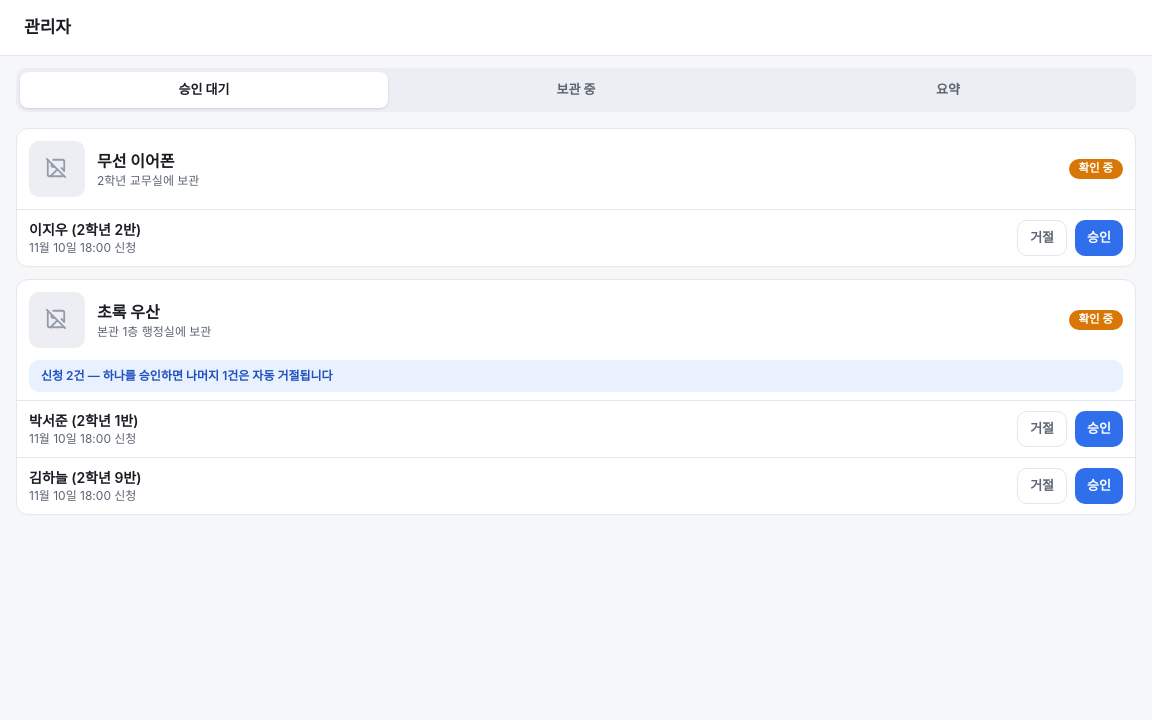
Test: AdminPage — 승인 대기 › 거절은 사유가 있어야 보낸다
Click the button with aria-label "이지우 신청 거절" at (1042, 238), box top-left (1017, 220), bottom-right (1067, 256)
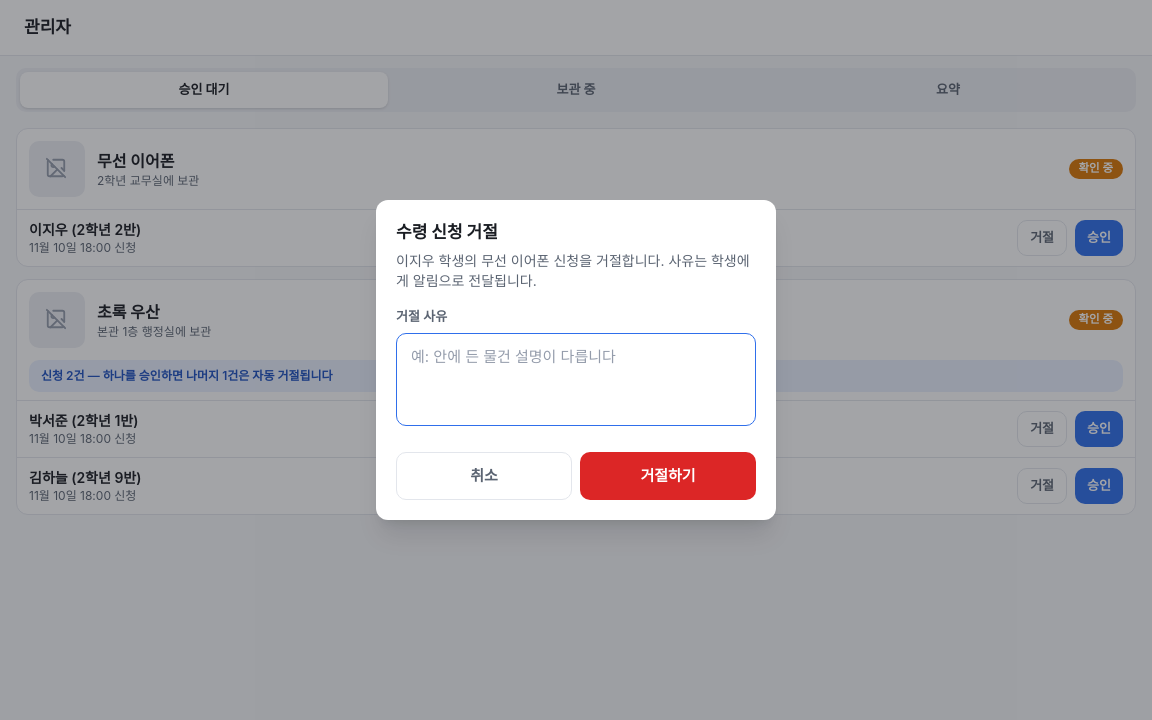
Click the button "거절하기" at (668, 476), box top-left (580, 452), bottom-right (756, 500)
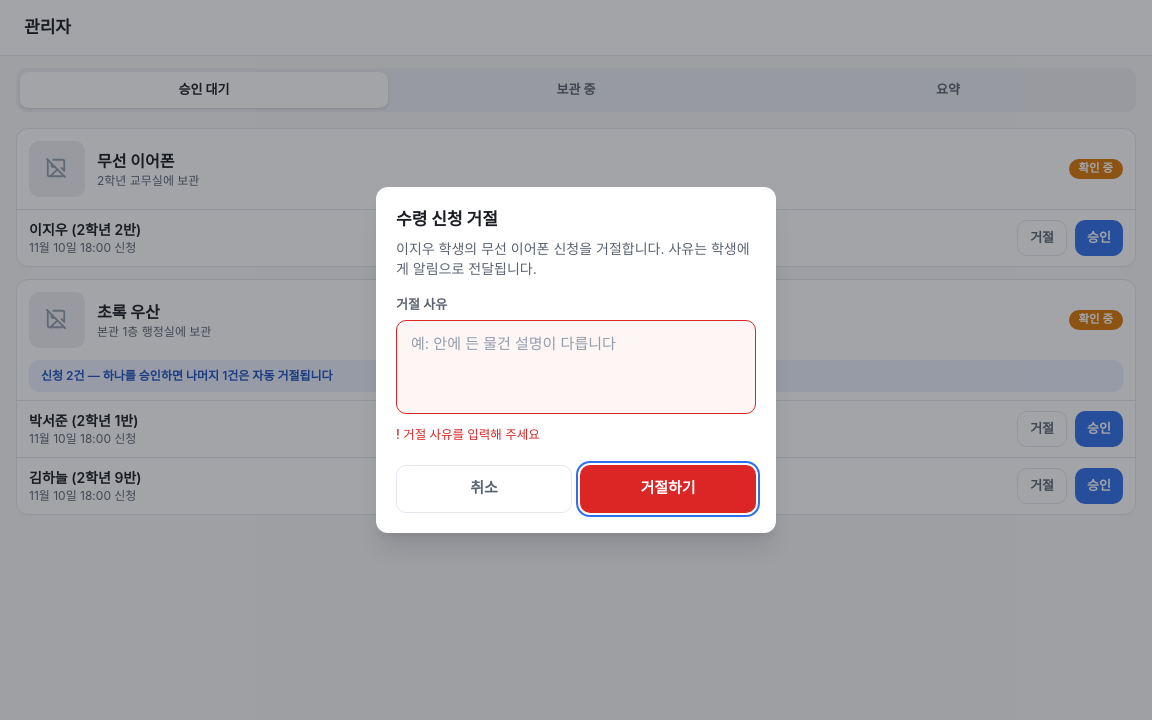
Result: the text "! 거절 사유를 입력해 주세요" is shown at top-left (396, 427), bottom-right (540, 442)
Type "케이스 색이 다릅니다" into the text box labelled "거절 사유" at (576, 367), box top-left (396, 320), bottom-right (756, 414)
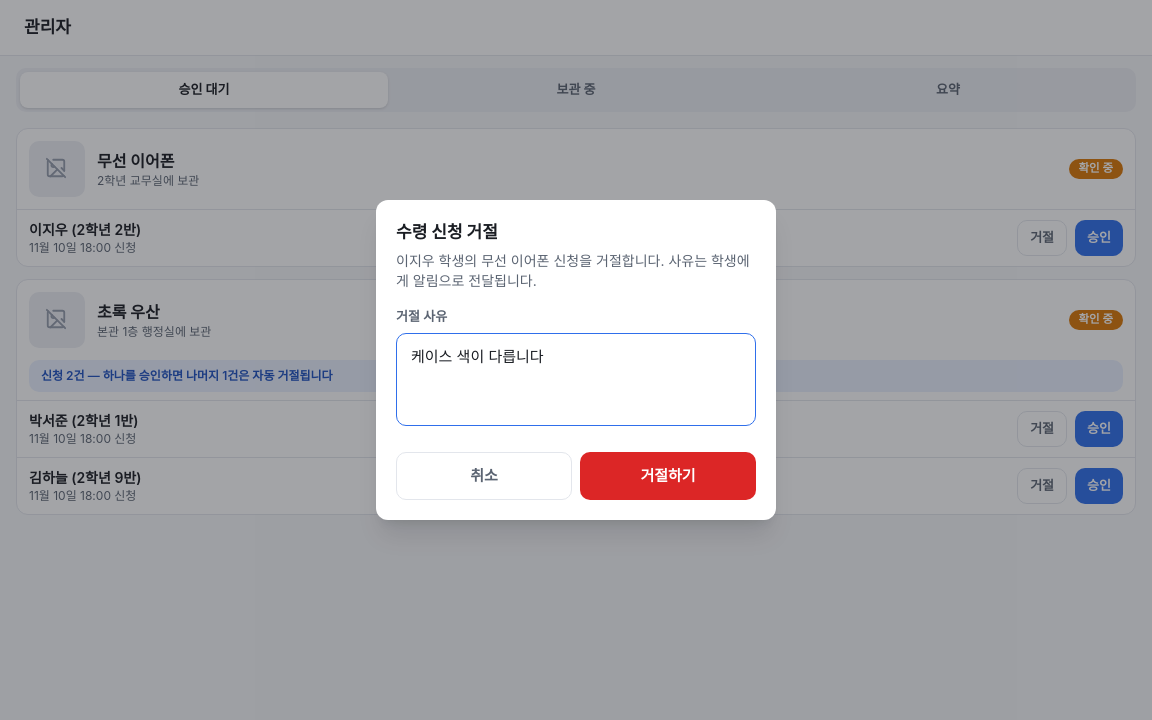
Click the button "거절하기" at (668, 476), box top-left (580, 452), bottom-right (756, 500)
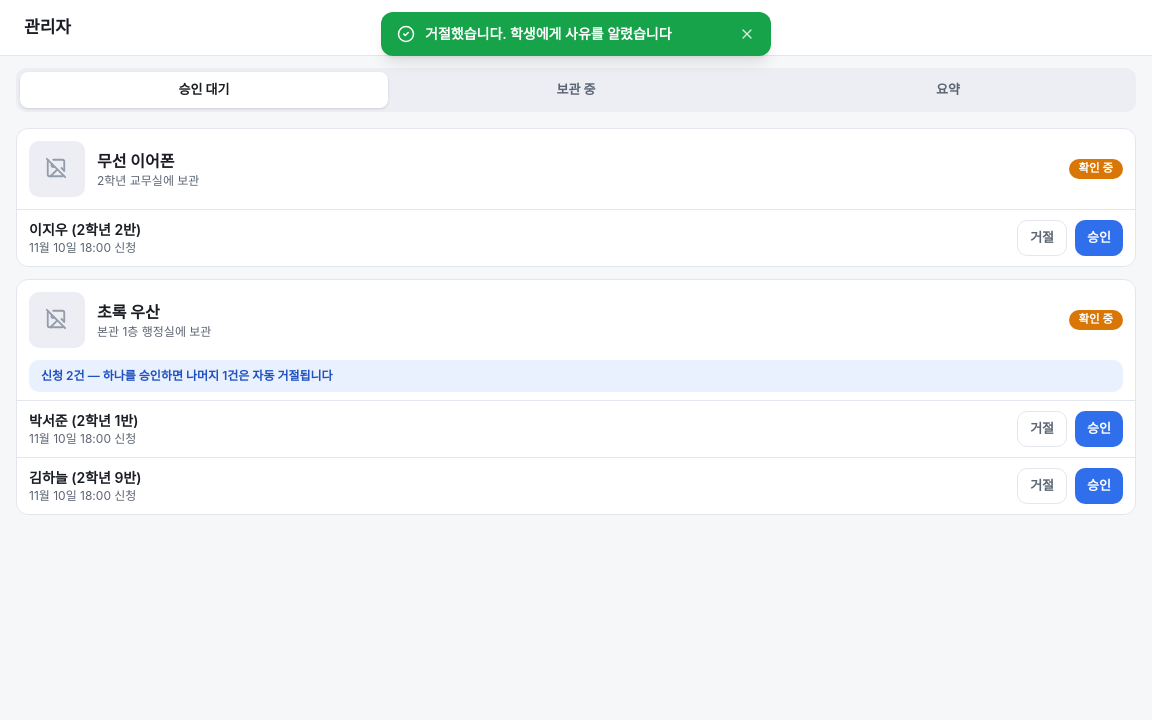
Result: the text "거절했습니다. 학생에게 사유를 알렸습니다" is shown at top-left (425, 25), bottom-right (672, 42)
